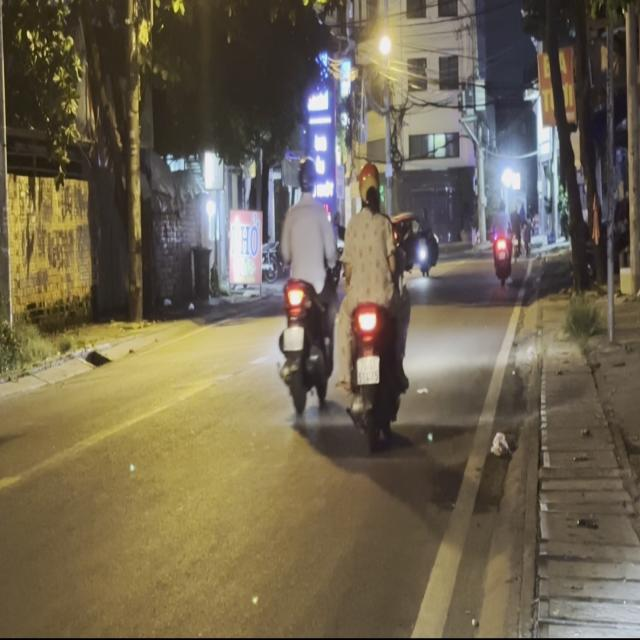helmet: (356, 160, 381, 209), (296, 156, 316, 197)
licenseplate: (335, 158, 411, 449), (275, 155, 339, 424)
nohelmet: (357, 356, 379, 384), (284, 327, 304, 350)
